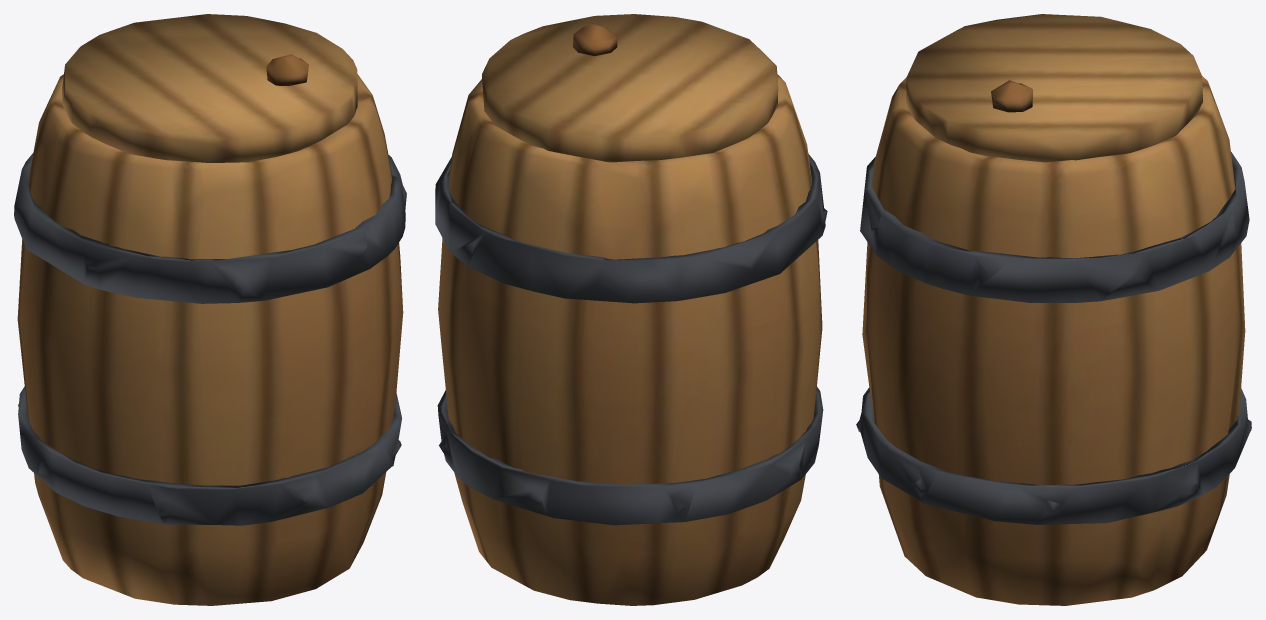
Rendered from barrel.glb.
3 renders of one model, left to right at view 1: azimuth 30°, elevation 25°; view 2: azimuth 150°, elevation 25°; view 3: azimuth 270°, elevation 25°, orthographic.
Parts seen in each view (by area): view 1: staves; view 2: staves; view 3: staves.
Part boxes in pixels (<box>): staves: <box>14,14,406,605</box>; staves: <box>435,14,827,605</box>; staves: <box>856,14,1251,605</box>.
Size of the model in its own units: 0.6661 by 0.9132 by 0.6667.
Materials: 1 (1 with a texture image).
